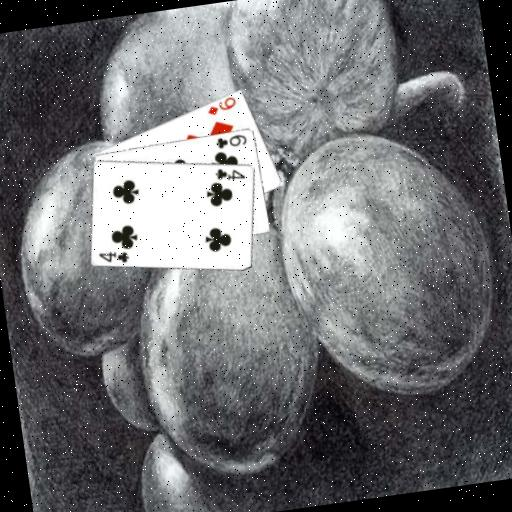4C: (95, 246, 131, 268), (212, 163, 248, 184)
6C: (212, 131, 249, 151)
9D: (203, 93, 239, 117)
